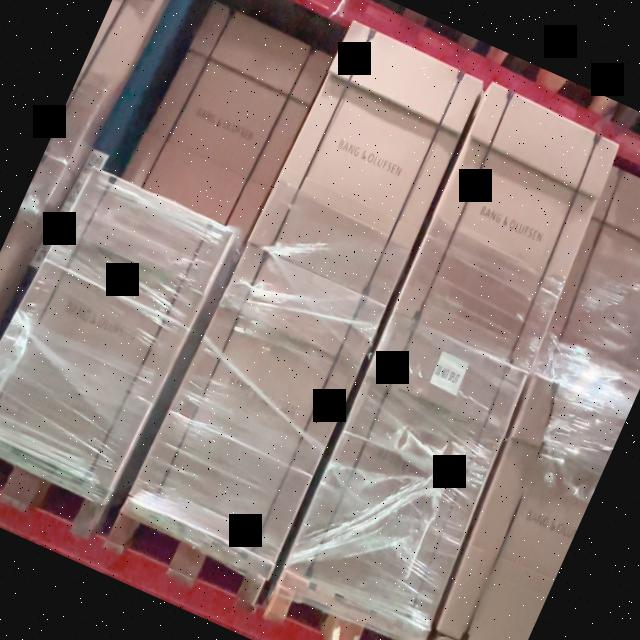box: (134, 246, 388, 562), (284, 313, 531, 626), (0, 171, 227, 483), (254, 25, 482, 302), (392, 88, 618, 366), (133, 4, 328, 230)
